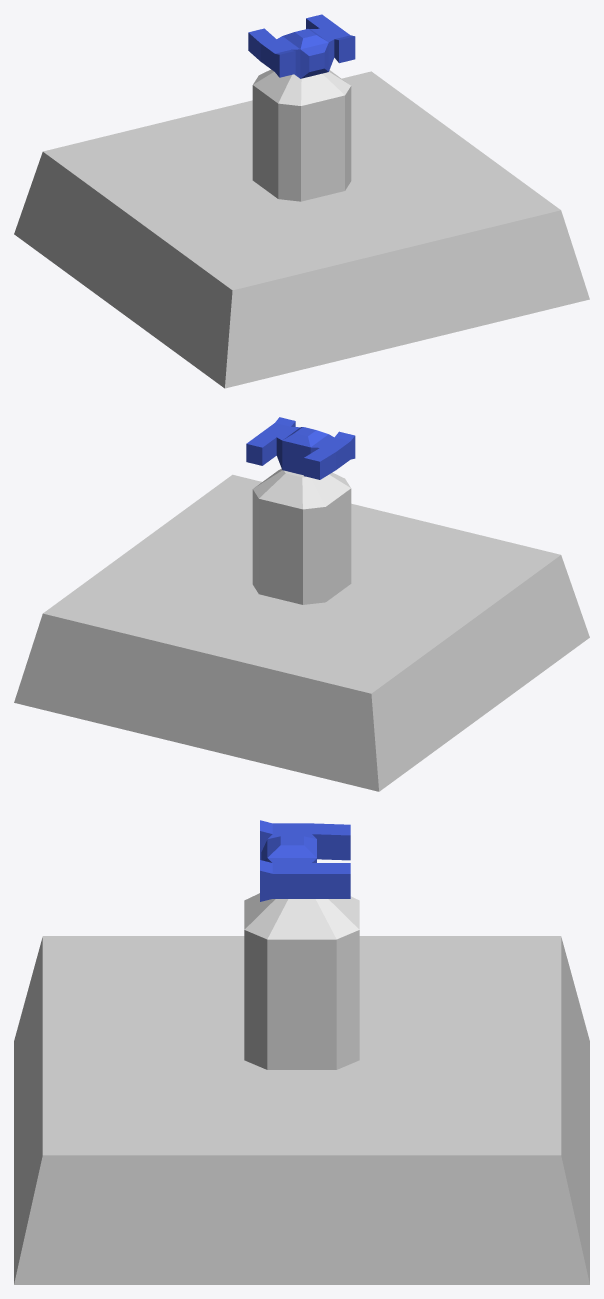
The model's file is Turret-Missile.fbx.
The picture shows the model from 3 angles, top to bottom: view 1: azimuth 30°, elevation 25°; view 2: azimuth 150°, elevation 25°; view 3: azimuth 270°, elevation 25°; orthographic projection. The views are drawn at different scales.
Parts seen in each view (by area): view 1: TurretPodium, TurretPillar, TurretBarrel; view 2: TurretPodium, TurretPillar, TurretBarrel; view 3: TurretPodium, TurretPillar, TurretBarrel.
Part boxes in pixels (<box>): TurretPodium: <box>14,71,589,388</box>; TurretPillar: <box>252,69,351,201</box>; TurretBarrel: <box>248,14,355,78</box>; TurretPodium: <box>14,474,589,791</box>; TurretPillar: <box>252,469,351,604</box>; TurretBarrel: <box>246,417,355,479</box>; TurretPodium: <box>14,936,589,1284</box>; TurretPillar: <box>244,893,359,1069</box>; TurretBarrel: <box>260,820,350,901</box>.
Bounding box in the file's own units: 10 × 6.17 × 10.
